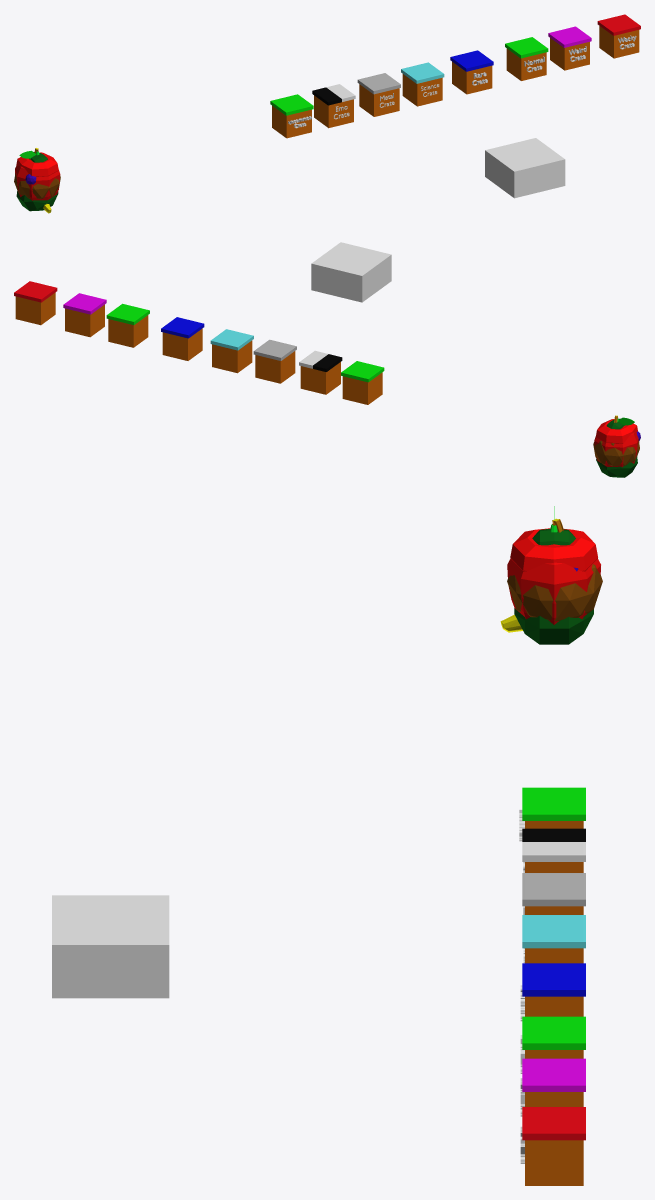
The model's file is BensFruitsCrates.fbx.
3 views of the same model, one above another, from view 1: azimuth 30°, elevation 25°; view 2: azimuth 150°, elevation 25°; view 3: azimuth 270°, elevation 25° (orthographic). The views are drawn at different scales.
Visible parts, largest first — view 1: Cube, ScienceTowerCrate, MetalTowerCrate, LightDarkTowerCrate, RareTowerCrate, WackyLoadoutCrate, NormalLoadoutCrate, WeirdLoadoutCrate, CommonTowerCrate, Cube.001, appleMDL, strawberyMDL (+2 smaller); view 2: Cube.001, LightDarkTowerCrate, ScienceTowerCrate, MetalTowerCrate, RareTowerCrate, CommonTowerCrate, NormalLoadoutCrate, WackyLoadoutCrate, WeirdLoadoutCrate, Cube, coconutMDL, strawberyMDL (+2 smaller); view 3: Cube.001, Cube, WackyLoadoutCrate, RareTowerCrate, ScienceTowerCrate, WeirdLoadoutCrate, LightDarkTowerCrate, NormalLoadoutCrate, CommonTowerCrate, MetalTowerCrate, coconutMDL, strawberyMDL (+3 smaller).
Boxes of the visible parts, x1,y1,x2,y2 form: Cube: [499, 148, 565, 198]; ScienceTowerCrate: [401, 62, 444, 106]; MetalTowerCrate: [357, 73, 400, 116]; LightDarkTowerCrate: [312, 84, 355, 128]; RareTowerCrate: [450, 50, 493, 94]; WackyLoadoutCrate: [597, 14, 640, 58]; NormalLoadoutCrate: [505, 37, 548, 80]; WeirdLoadoutCrate: [548, 26, 591, 70]; CommonTowerCrate: [270, 94, 313, 138]; Cube.001: [485, 138, 550, 187]; appleMDL: [15, 150, 60, 200]; strawberyMDL: [16, 151, 58, 176]; Cube.001: [311, 253, 376, 302]; LightDarkTowerCrate: [299, 350, 342, 394]; ScienceTowerCrate: [210, 329, 253, 373]; MetalTowerCrate: [253, 339, 296, 383]; RareTowerCrate: [161, 317, 204, 360]; CommonTowerCrate: [341, 361, 384, 404]; NormalLoadoutCrate: [106, 303, 149, 347]; WackyLoadoutCrate: [14, 281, 57, 325]; WeirdLoadoutCrate: [63, 293, 106, 337]; Cube: [326, 242, 391, 291]; coconutMDL: [593, 440, 639, 466]; strawberyMDL: [595, 418, 637, 443]; Cube.001: [110, 895, 169, 998]; Cube: [52, 895, 110, 998]; WackyLoadoutCrate: [522, 1107, 585, 1185]; RareTowerCrate: [522, 963, 585, 1016]; ScienceTowerCrate: [522, 915, 585, 963]; WeirdLoadoutCrate: [522, 1058, 585, 1106]; LightDarkTowerCrate: [522, 828, 585, 872]; NormalLoadoutCrate: [522, 1016, 585, 1058]; CommonTowerCrate: [522, 787, 585, 828]; MetalTowerCrate: [522, 873, 585, 914]; coconutMDL: [507, 564, 602, 621]; strawberyMDL: [510, 524, 597, 571].
Bounding box in the file's own units: 4840 × 445 × 1876.
